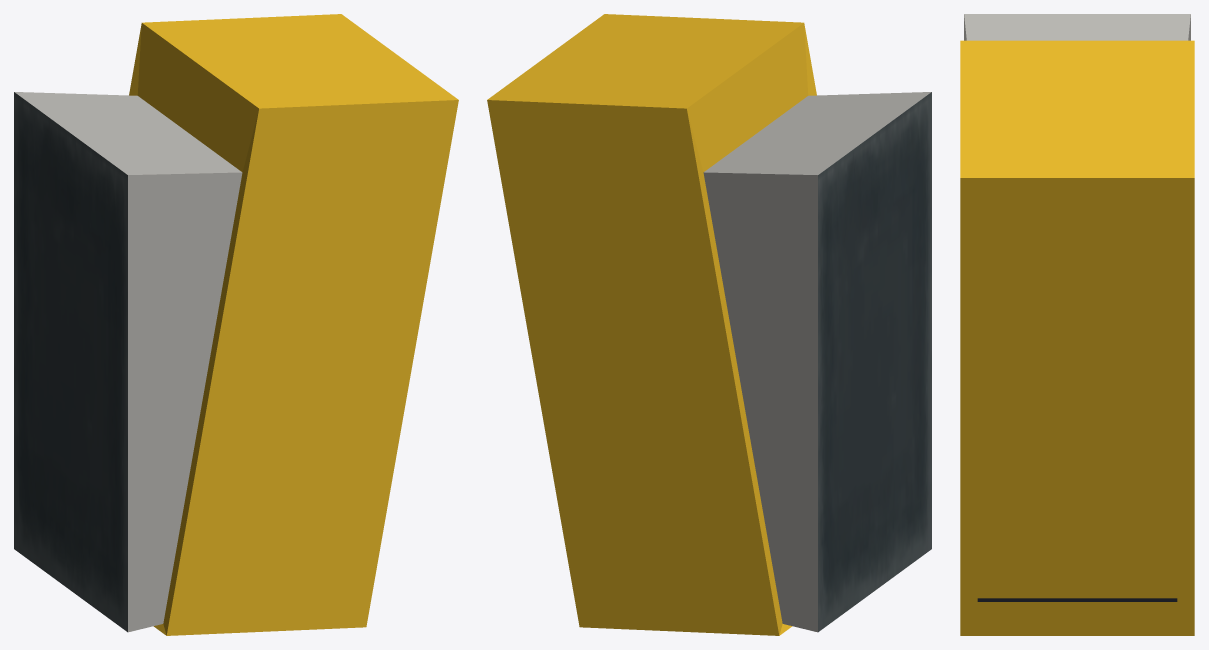
Rendered from Speaker.fbx.
3 renders of one model, left to right at view 1: azimuth 30°, elevation 25°; view 2: azimuth 150°, elevation 25°; view 3: azimuth 270°, elevation 25°, orthographic.
Visible parts, largest first — view 1: Cube; view 2: Cube; view 3: Cube.
Part boxes in pixels (x1,y1,x2,y2): Cube: (14, 14, 458, 635); Cube: (487, 14, 931, 635); Cube: (960, 14, 1194, 635).
Size of the model in its own units: 26.81 by 42.4 by 16.57.
